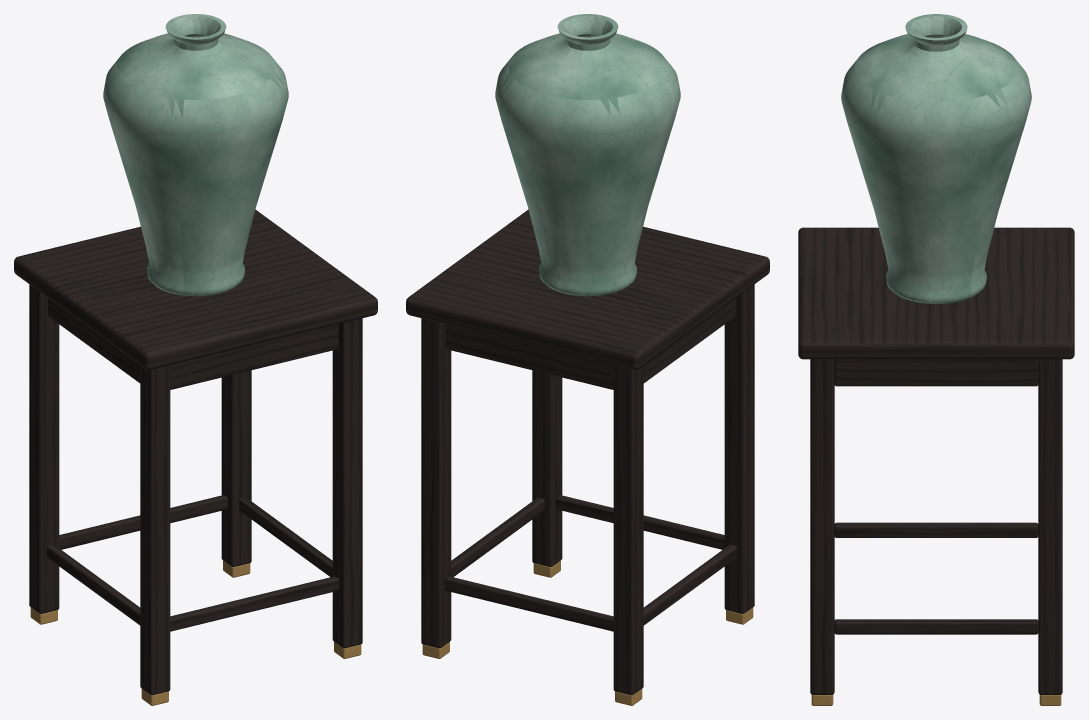
File: celadon_vase_stand.glb
3 renders of one model, left to right at view 1: azimuth 30°, elevation 25°; view 2: azimuth 150°, elevation 25°; view 3: azimuth 270°, elevation 25°, orthographic. The views are drawn at different scales.
Parts seen in each view (by area): view 1: part_vase_LOD0, part_stand_top_LOD0, part_leg_fl_LOD0, part_leg_fr_LOD0, part_leg_bl_LOD0, part_stretchers_LOD0, part_apron_LOD0, part_leg_br_LOD0; view 2: part_vase_LOD0, part_stand_top_LOD0, part_leg_bl_LOD0, part_leg_br_LOD0, part_leg_fl_LOD0, part_stretchers_LOD0, part_apron_LOD0, part_leg_fr_LOD0; view 3: part_vase_LOD0, part_stand_top_LOD0, part_leg_fr_LOD0, part_leg_br_LOD0, part_stretchers_LOD0, part_apron_LOD0.
Part boxes in pixels (<box>): part_vase_LOD0: <box>103,14,288,296</box>; part_stand_top_LOD0: <box>14,209,377,370</box>; part_leg_fl_LOD0: <box>140,365,170,705</box>; part_leg_fr_LOD0: <box>332,318,362,658</box>; part_leg_bl_LOD0: <box>29,284,59,624</box>; part_stretchers_LOD0: <box>47,495,338,631</box>; part_apron_LOD0: <box>48,298,338,389</box>; part_leg_br_LOD0: <box>221,370,251,577</box>; part_vase_LOD0: <box>495,14,680,296</box>; part_stand_top_LOD0: <box>406,209,769,370</box>; part_leg_bl_LOD0: <box>613,365,643,705</box>; part_leg_br_LOD0: <box>421,318,451,658</box>; part_leg_fl_LOD0: <box>724,284,754,624</box>; part_stretchers_LOD0: <box>445,495,736,631</box>; part_apron_LOD0: <box>445,298,735,389</box>; part_leg_fr_LOD0: <box>532,370,562,577</box>; part_vase_LOD0: <box>841,14,1031,303</box>; part_stand_top_LOD0: <box>798,227,1074,359</box>; part_leg_fr_LOD0: <box>810,359,834,705</box>; part_leg_br_LOD0: <box>1038,359,1062,705</box>; part_stretchers_LOD0: <box>834,522,1038,634</box>; part_apron_LOD0: <box>834,359,1038,386</box>.
Size of what is drawn, in the model's own units: 0.4 by 1 by 0.4.
5 materials, 5 textured.
